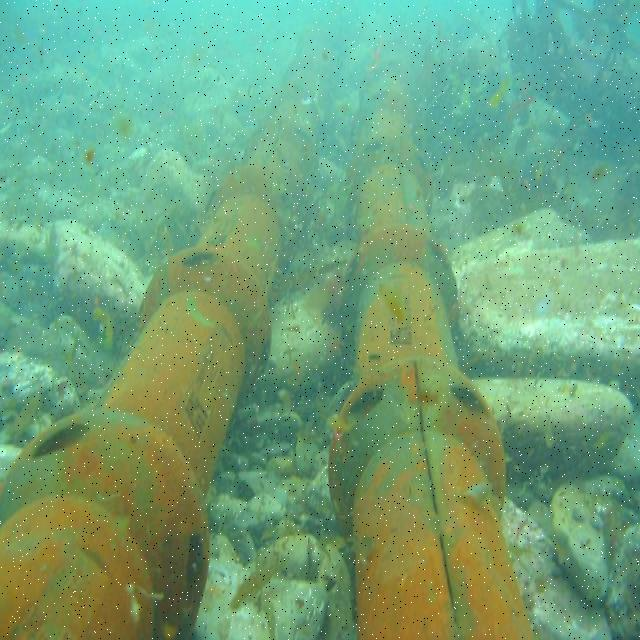sea-floor: (445, 208, 639, 391), (463, 376, 638, 476), (550, 476, 639, 632)
wrecks-ruins: (0, 30, 339, 639), (331, 46, 539, 639)
